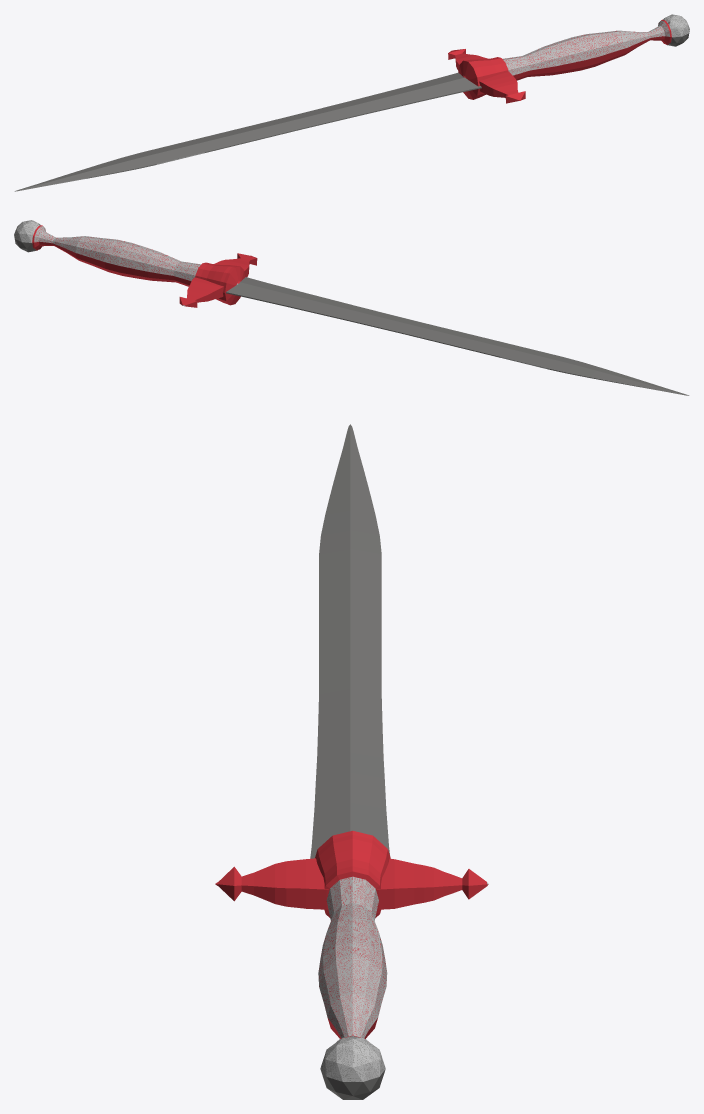
The model's file is swordflat.fbx.
3 renders of one model, top to bottom at view 1: azimuth 30°, elevation 25°; view 2: azimuth 150°, elevation 25°; view 3: azimuth 270°, elevation 25°, orthographic. The views are drawn at different scales.
Parts seen in each view (by area): view 1: Cube; view 2: Cube; view 3: Cube.
Boxes of the visible parts, x1,y1,x2,y2 form: Cube: (14, 14, 689, 191); Cube: (14, 220, 689, 395); Cube: (215, 424, 488, 1099).
Size of the model in its own units: 4744 by 248 by 835.
